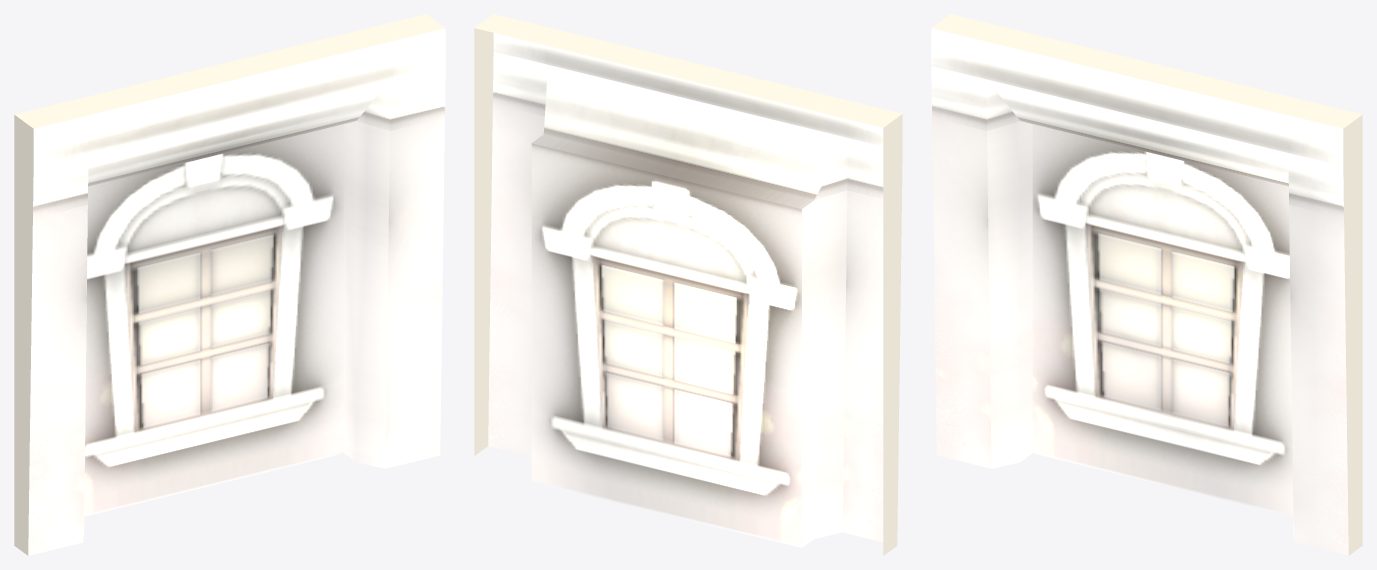
Rendered from Tower.fbx.
The picture shows the model from 3 angles, left to right: view 1: azimuth 30°, elevation 25°; view 2: azimuth 150°, elevation 25°; view 3: azimuth 330°, elevation 25°; orthographic projection.
Parts seen in each view (by area): view 1: Tower; view 2: Tower; view 3: Tower.
Part boxes in pixels (<box>): Tower: <box>14,14,445,555</box>; Tower: <box>474,14,902,555</box>; Tower: <box>931,14,1362,555</box>.
Size of the model in its own units: 4 by 4 by 0.5314.
